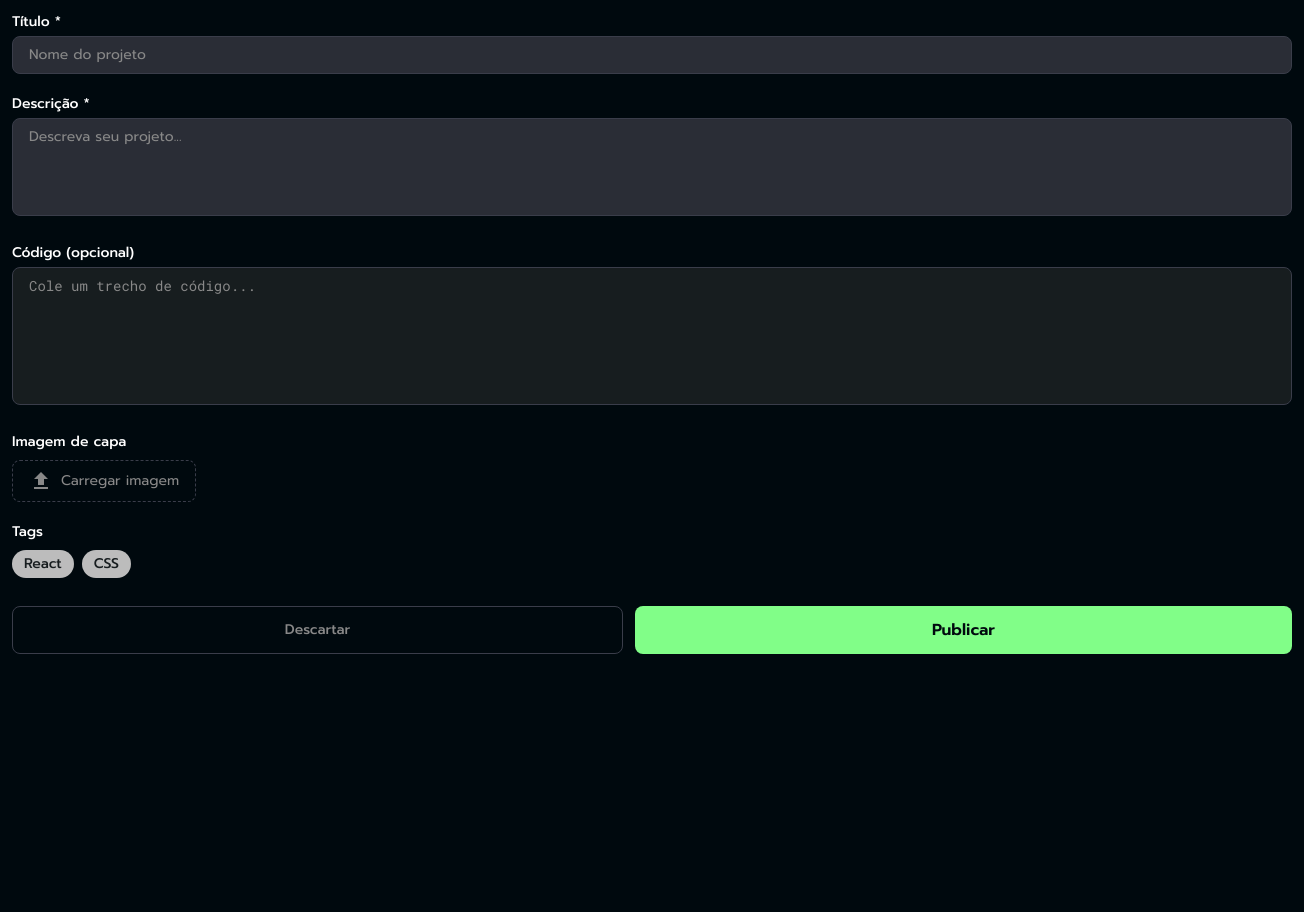
Test: CreatePostForm › shows error when submitting empty title
Click the button "Publicar": (964, 630) [635,606,1292,654]
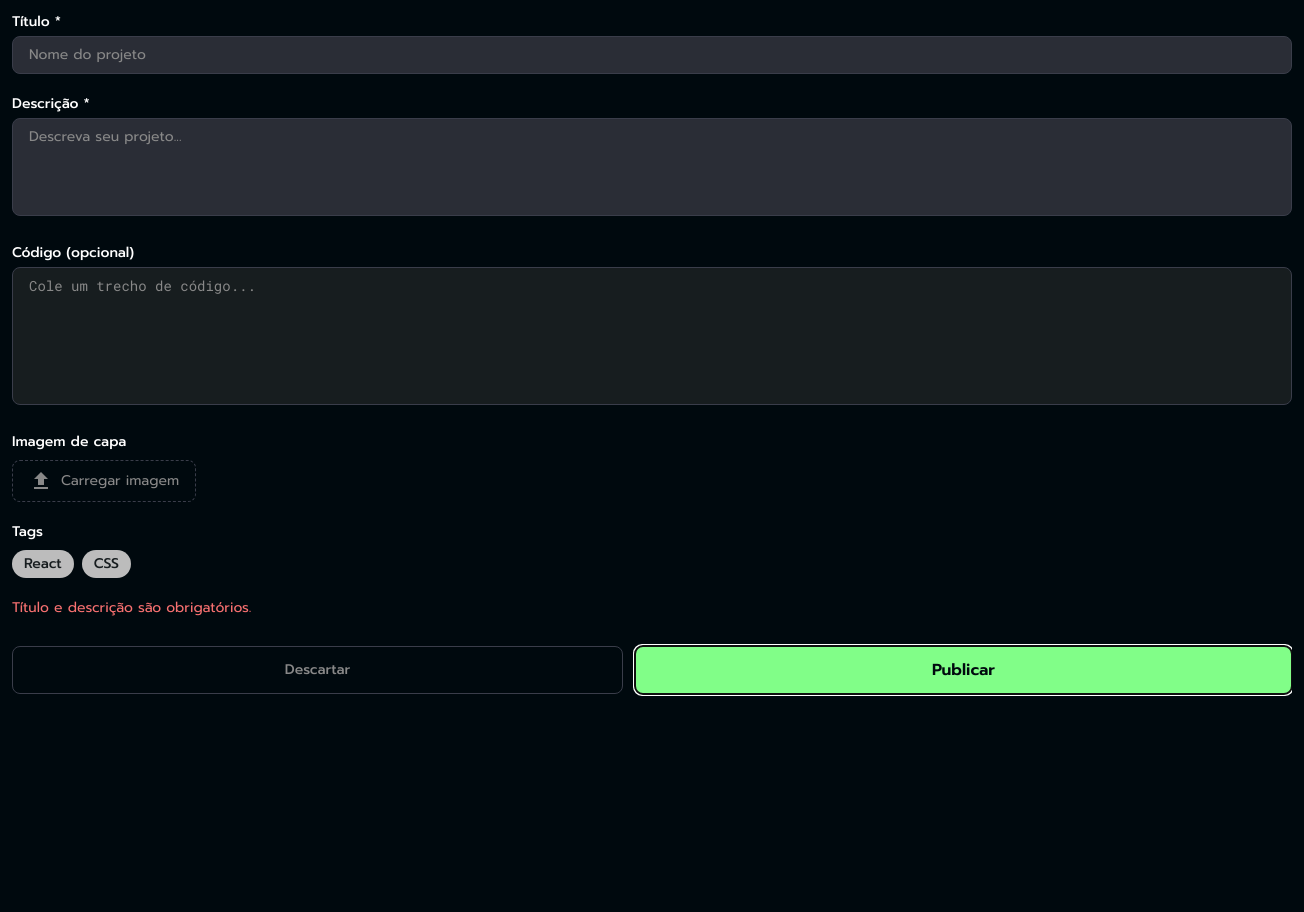
Expected: the message reads "Título e descrição são obrigatórios.", [12,597,251,618]
